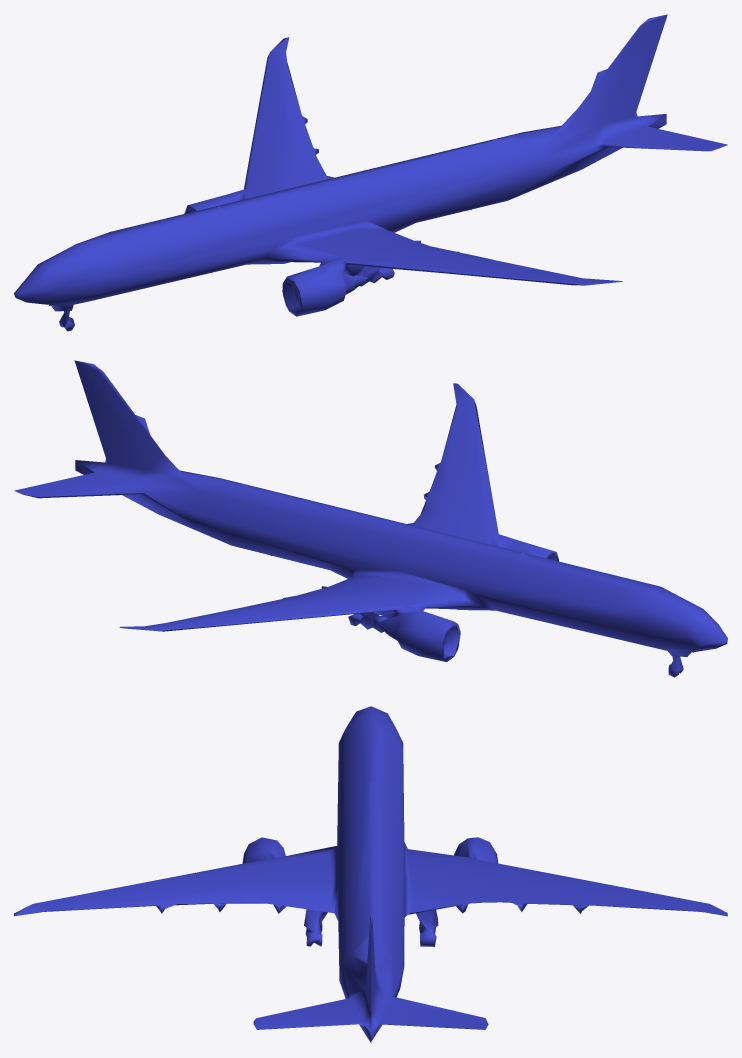
File: bluefeiji.glb
3 views of the same model, one above another, from view 1: azimuth 30°, elevation 25°; view 2: azimuth 150°, elevation 25°; view 3: azimuth 270°, elevation 25° (orthographic). The views are drawn at different scales.
Visible parts, largest first — view 1: node_id7; view 2: node_id7; view 3: node_id7.
Part boxes in pixels (x1,y1,x2,y2): node_id7: [14, 14, 727, 331]; node_id7: [14, 360, 727, 677]; node_id7: [14, 706, 727, 1042].
Bounding box in the file's own units: 9.7 × 2.38 × 8.51.
Materials: 1 (1 with a texture image).
